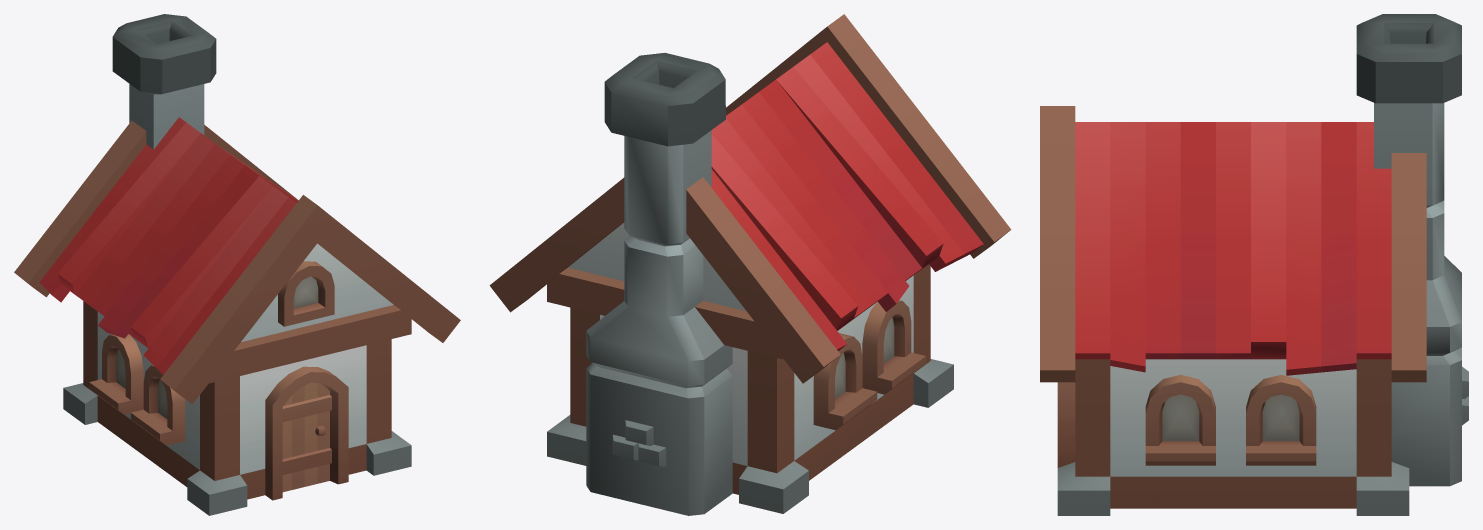
Rendered from building_home_A-CVYbdsRp.glb.
The picture shows the model from 3 angles, left to right: view 1: azimuth 30°, elevation 25°; view 2: azimuth 150°, elevation 25°; view 3: azimuth 270°, elevation 25°; orthographic projection. The views are drawn at different scales.
Visible parts, largest first — view 1: building_home_A_red; view 2: building_home_A_red; view 3: building_home_A_red.
Part boxes in pixels (<box>): building_home_A_red: <box>14,14,460,515</box>; building_home_A_red: <box>489,14,1011,515</box>; building_home_A_red: <box>1040,14,1468,515</box>.
Bounding box in the file's own units: 4.36 × 5.12 × 4.7.
Materials: 1 (1 with a texture image).
